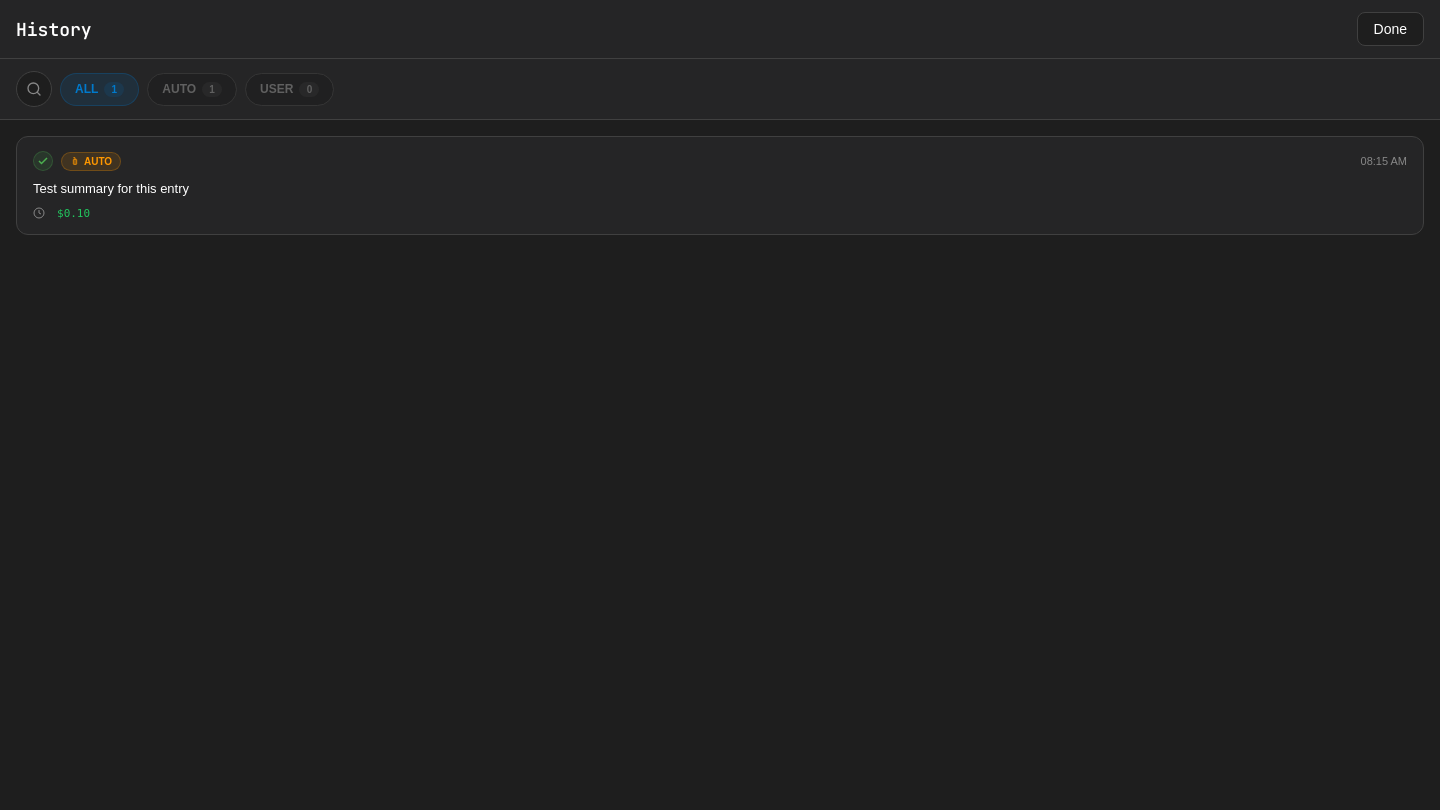
Test: MobileHistoryPanel › Detail view content › shows token counts in detail view
This screenshot has width=1440, height=810.
Click the button with aria-label "AUTO entry from".
click(91, 161)  # box [16,136,1424,234]
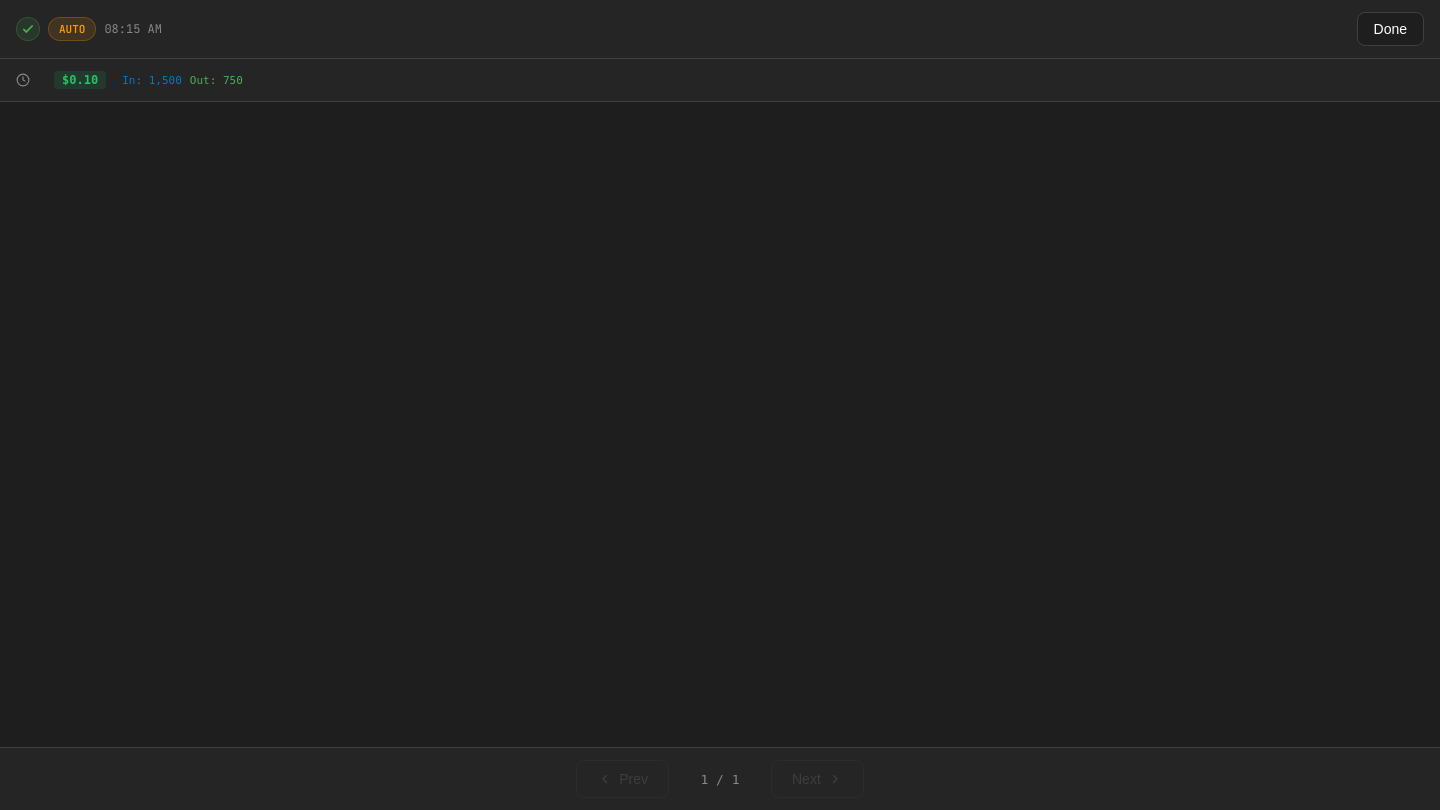
Expected: the text "In: 1,500" is shown, [122,74,182,86]
Expected: the text "Out: 750" is shown, [190,74,243,86]
